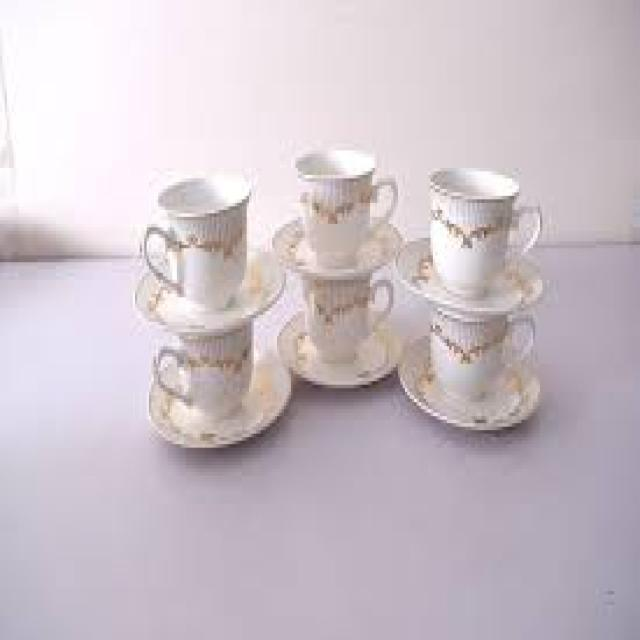taza: (420, 161, 550, 295), (134, 169, 260, 307), (147, 311, 265, 433), (409, 306, 540, 409), (297, 138, 403, 259), (301, 268, 398, 382)
